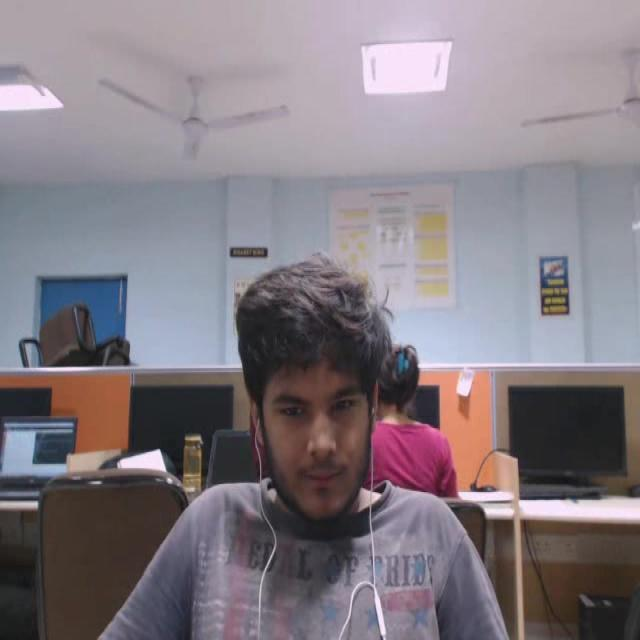Engaged: (213, 224, 434, 551)
